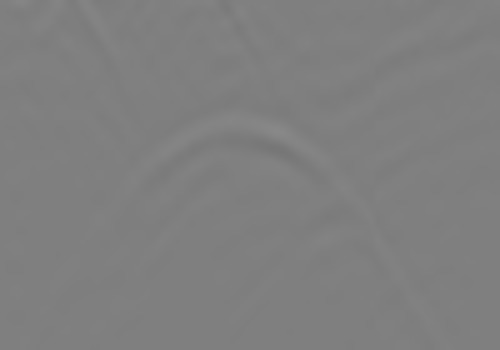hyperbola: (73, 112, 409, 297)
